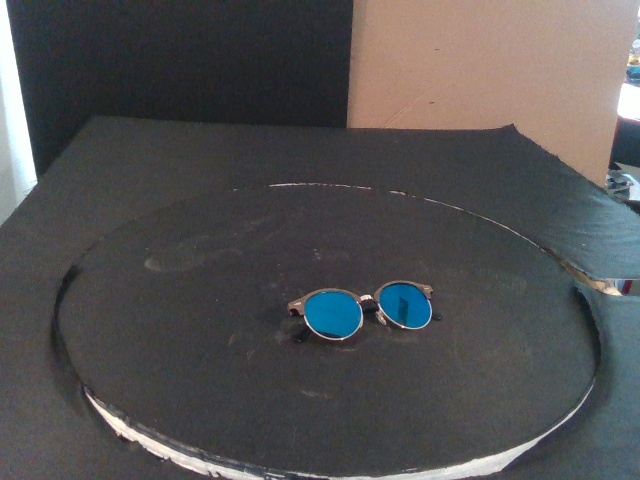glasses: (287, 279, 434, 343)
